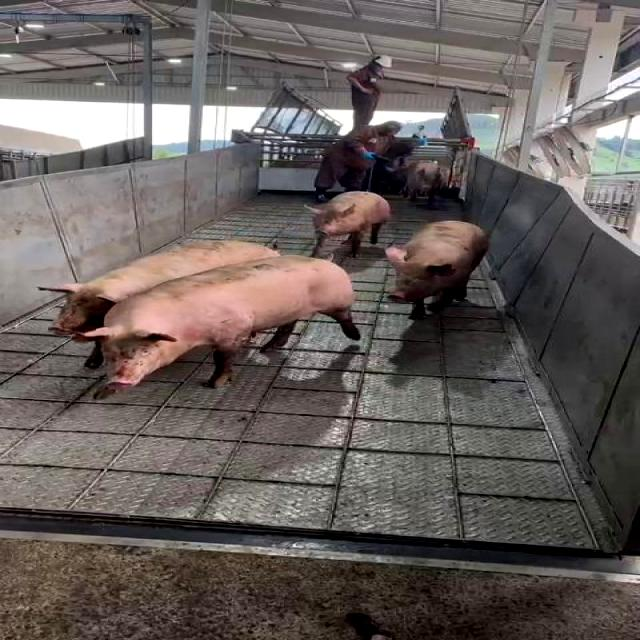pig: (78, 258, 359, 387), (40, 241, 280, 335), (386, 221, 489, 318), (309, 191, 391, 255)
